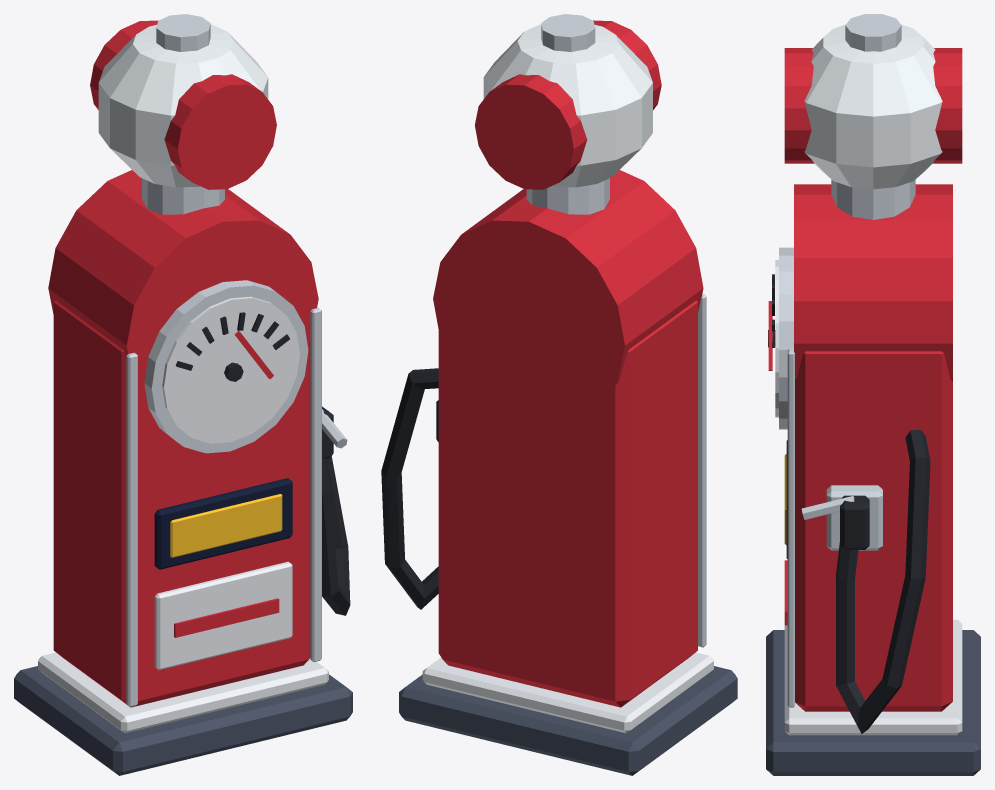
File: GasPump.fbx
The picture shows the model from 3 angles, left to right: view 1: azimuth 30°, elevation 25°; view 2: azimuth 150°, elevation 25°; view 3: azimuth 270°, elevation 25°; orthographic projection.
Parts seen in each view (by area): view 1: GasPump, Neon_White; view 2: GasPump, Neon_White; view 3: GasPump, Neon_White.
Part boxes in pixels (left/top/right/bottom): GasPump: left=14, top=14, right=352, bottom=775; Neon_White: left=98, top=24, right=268, bottom=187; GasPump: left=381, top=14, right=737, bottom=775; Neon_White: left=483, top=24, right=652, bottom=187; GasPump: left=766, top=14, right=980, bottom=775; Neon_White: left=804, top=24, right=942, bottom=189.
Bounding box in the file's own units: 3.65 × 8.2 × 2.3.
2 materials, 1 textured.
